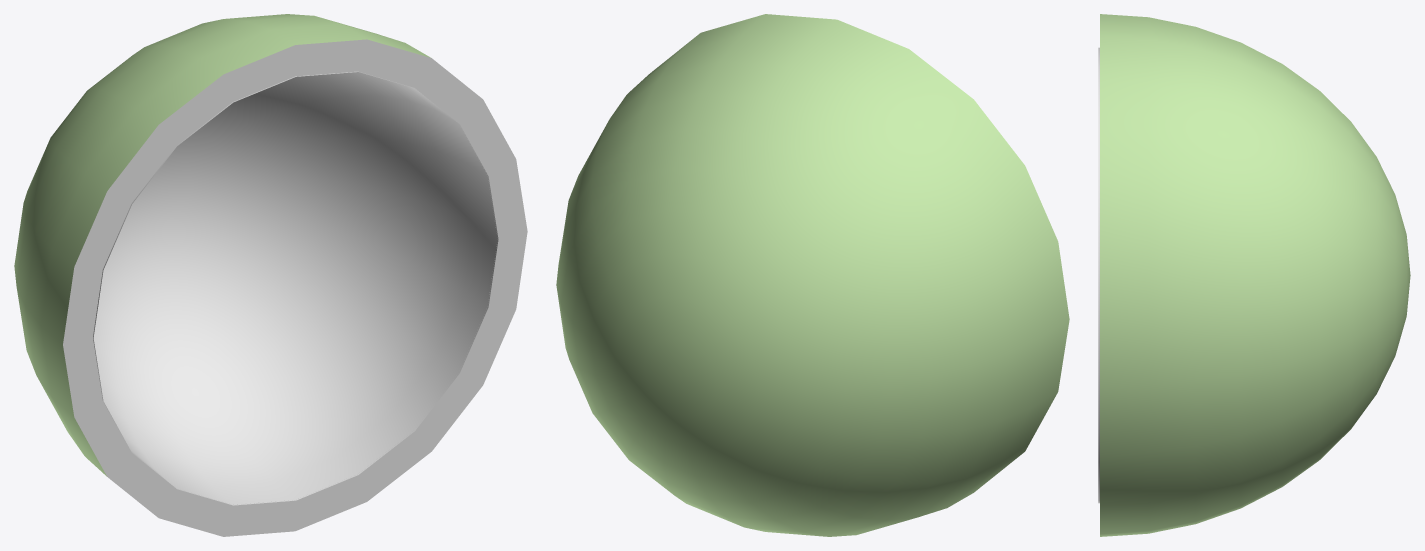
The model's file is coconut_back.fbx.
The picture shows the model from 3 angles, left to right: view 1: azimuth 30°, elevation 25°; view 2: azimuth 150°, elevation 25°; view 3: azimuth 270°, elevation 25°; orthographic projection.
Visible parts, largest first — view 1: pasted__coconut; view 2: pasted__coconut; view 3: pasted__coconut.
Part boxes in pixels (<box>): pasted__coconut: <box>14,14,527,536</box>; pasted__coconut: <box>556,14,1069,536</box>; pasted__coconut: <box>1098,14,1410,536</box>.
Bounding box in the file's own units: 2.68 × 2.68 × 1.58.
